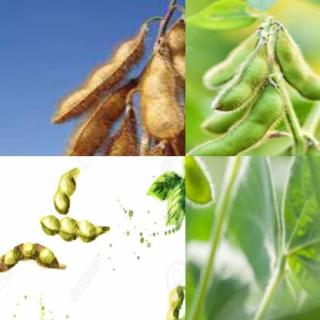soya: (54, 38, 145, 123), (186, 87, 284, 155), (54, 86, 128, 156), (212, 46, 270, 111), (142, 56, 184, 139), (276, 27, 320, 102), (204, 31, 259, 87), (39, 214, 110, 243), (0, 242, 68, 272), (168, 25, 184, 123), (84, 127, 138, 155), (54, 168, 80, 215), (200, 110, 242, 135), (162, 286, 184, 320)
